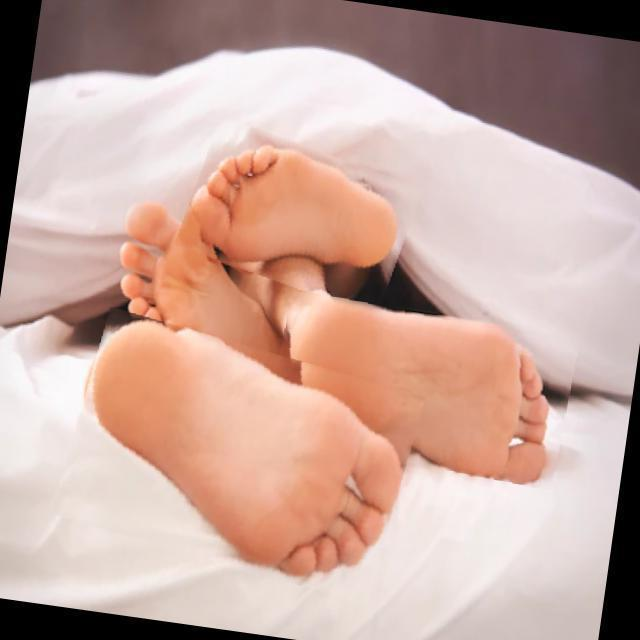No_Shoes: (94, 312, 402, 574), (290, 296, 548, 465), (111, 154, 295, 382), (194, 139, 414, 250)
